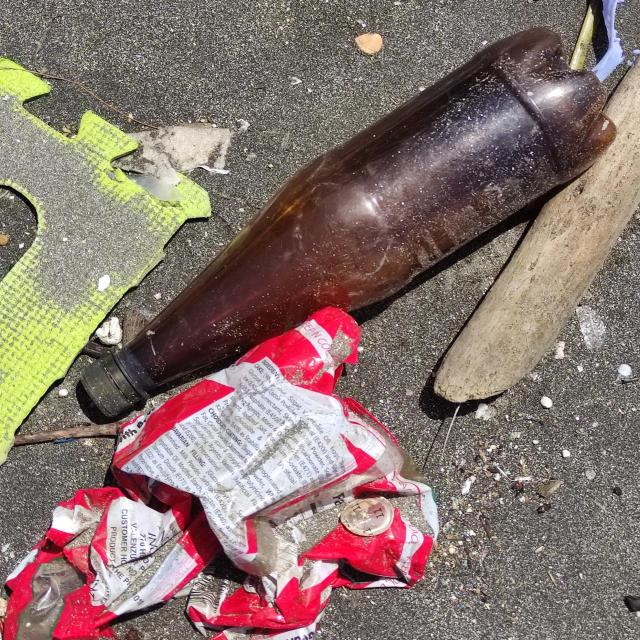plastic_waste: (72, 23, 640, 424), (1, 304, 439, 640)
